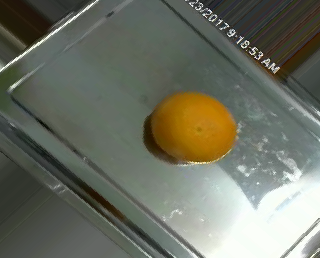Orange: (151, 90, 239, 164)
